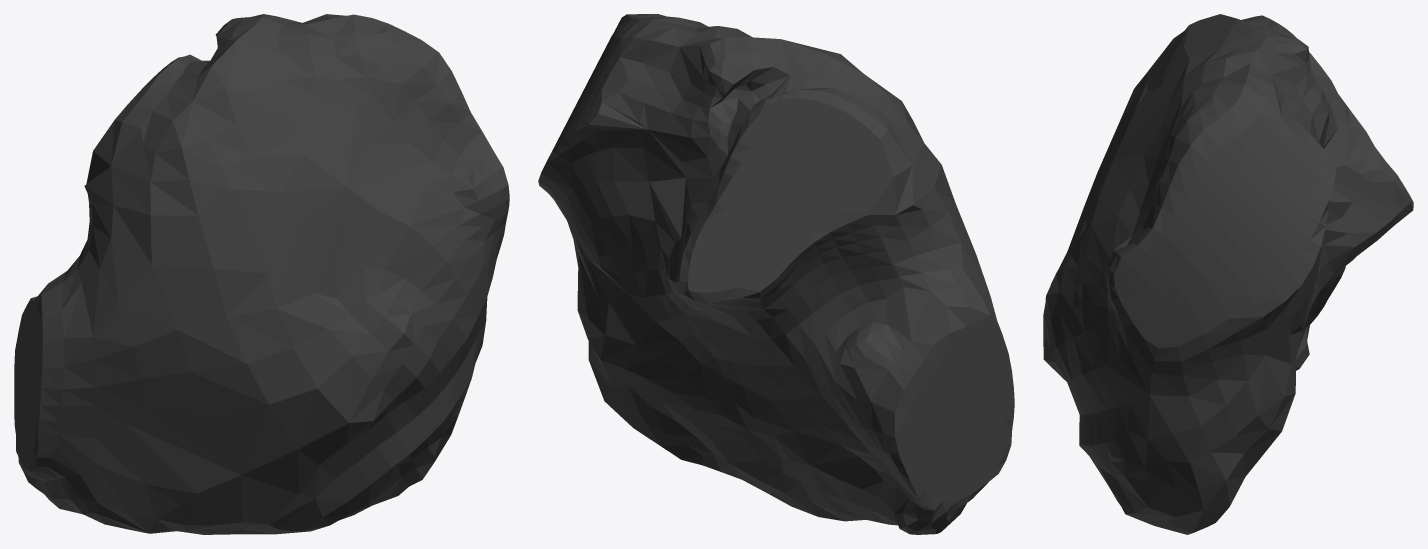
Rendered from R_sided_ATRIA.glb.
3 renders of one model, left to right at view 1: azimuth 30°, elevation 25°; view 2: azimuth 150°, elevation 25°; view 3: azimuth 270°, elevation 25°, orthographic.
Parts seen in each view (by area): view 1: R_sided_ATRIA; view 2: R_sided_ATRIA; view 3: R_sided_ATRIA.
Boxes of the visible parts, <box> form: R_sided_ATRIA: <box>14,14,509,534</box>; R_sided_ATRIA: <box>538,14,1014,534</box>; R_sided_ATRIA: <box>1043,14,1413,534</box>.
Size of the model in its own units: 6.09 by 6.33 by 4.47.
Materials: 1 (1 with a texture image).
